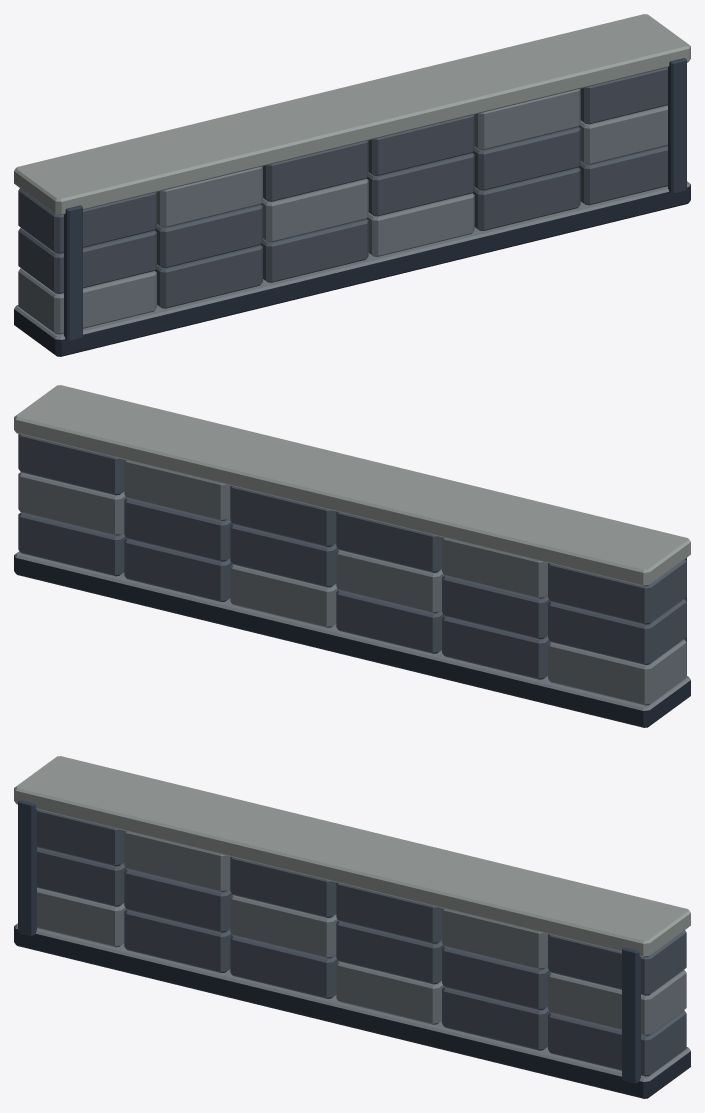
File: wall-long.glb
The picture shows the model from 3 angles, top to bottom: view 1: azimuth 30°, elevation 25°; view 2: azimuth 150°, elevation 25°; view 3: azimuth 330°, elevation 25°; orthographic projection.
Parts seen in each view (by area): view 1: wall-long__body; view 2: wall-long__body; view 3: wall-long__body.
Part boxes in pixels (x1=…): wall-long__body: x1=14, y1=14, x2=690, y2=356; wall-long__body: x1=14, y1=385, x2=690, y2=727; wall-long__body: x1=14, y1=756, x2=690, y2=1098.
Bounding box in the file's own units: 4 × 0.95 × 0.5275.
